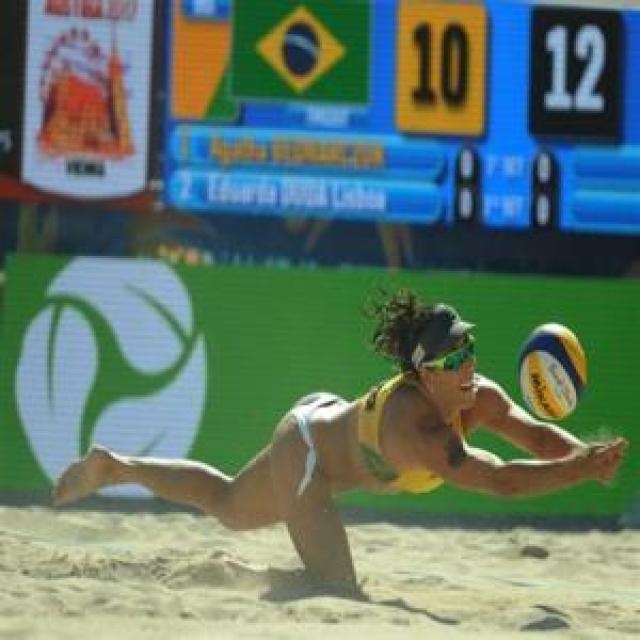volleyball: (518, 322, 587, 420)
